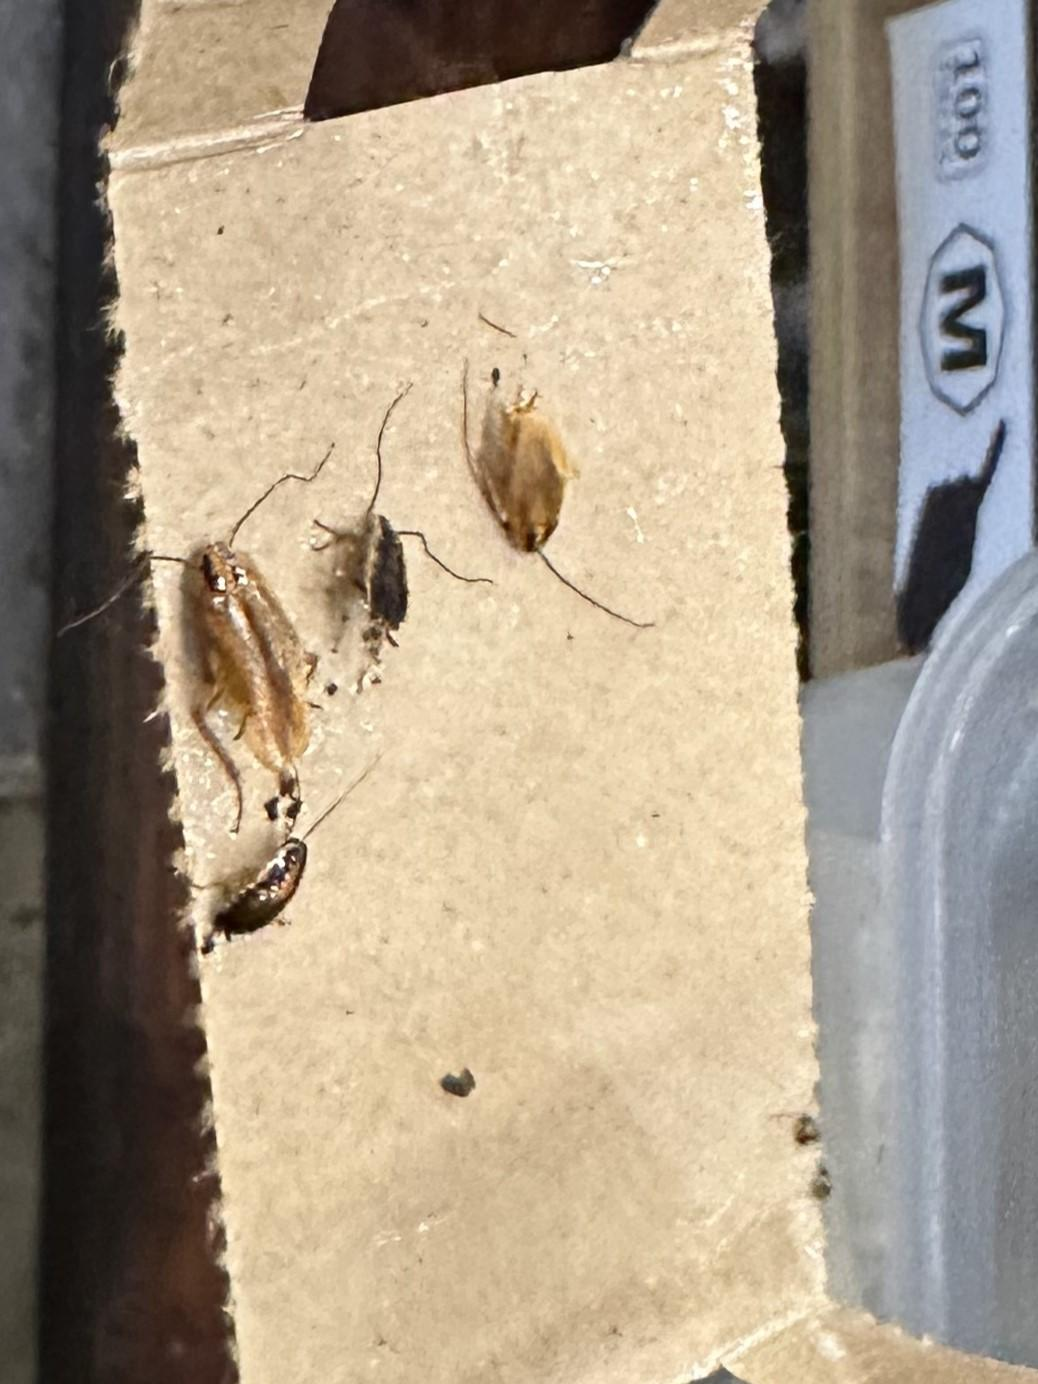cockroach: (48, 471, 343, 802), (398, 336, 708, 651), (278, 373, 507, 696), (188, 755, 451, 993)
